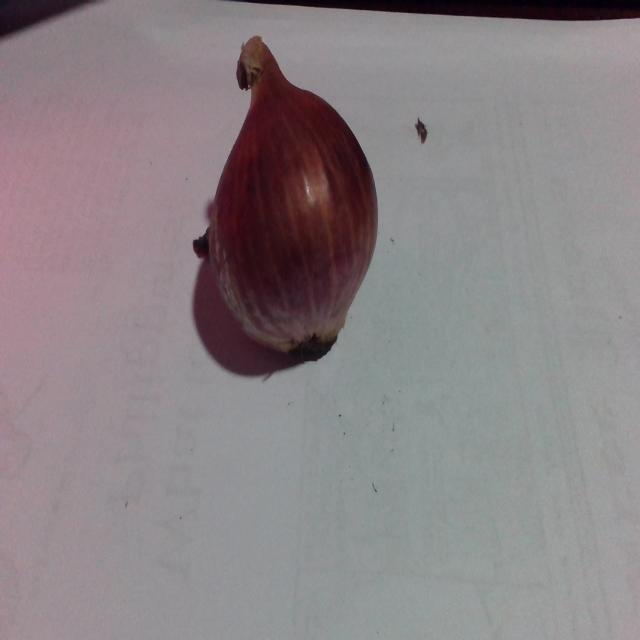onion: (212, 72, 381, 365)
